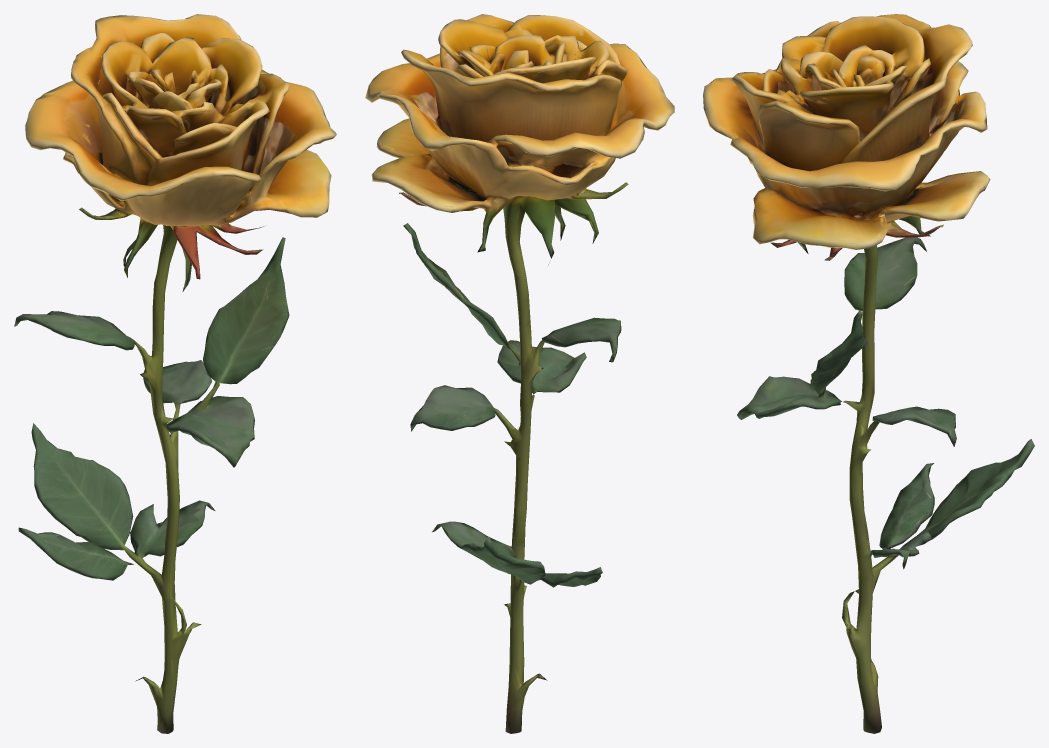
The model's file is herbaciana_roza.glb.
3 renders of one model, left to right at view 1: azimuth 30°, elevation 25°; view 2: azimuth 150°, elevation 25°; view 3: azimuth 270°, elevation 25°, orthographic.
Parts seen in each view (by area): view 1: Mesh_0; view 2: Mesh_0; view 3: Mesh_0.
Part boxes in pixels (x1,y1,x2,y2): Mesh_0: (14,14,336,733); Mesh_0: (365,14,674,733); Mesh_0: (703,14,1034,733).
Bounding box in the file's own units: 0.2058 × 0.5 × 0.2174.
Materials: 1 (1 with a texture image).
